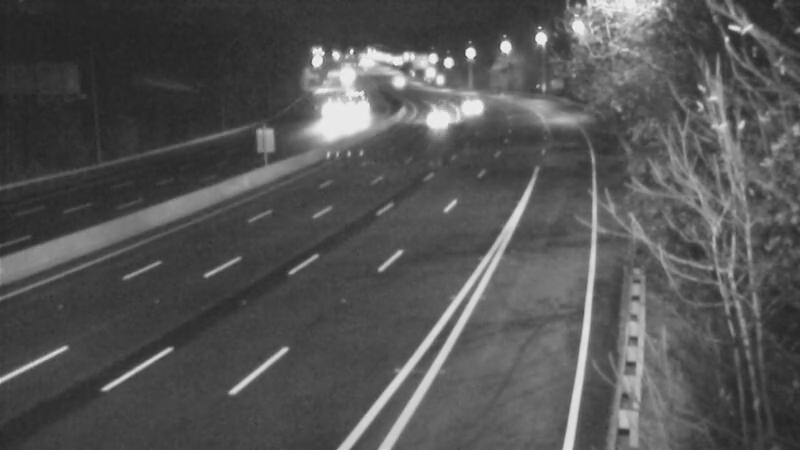vehicle: (372, 57, 422, 107), (443, 78, 493, 128), (412, 93, 462, 143), (303, 95, 353, 145), (330, 83, 380, 133)
